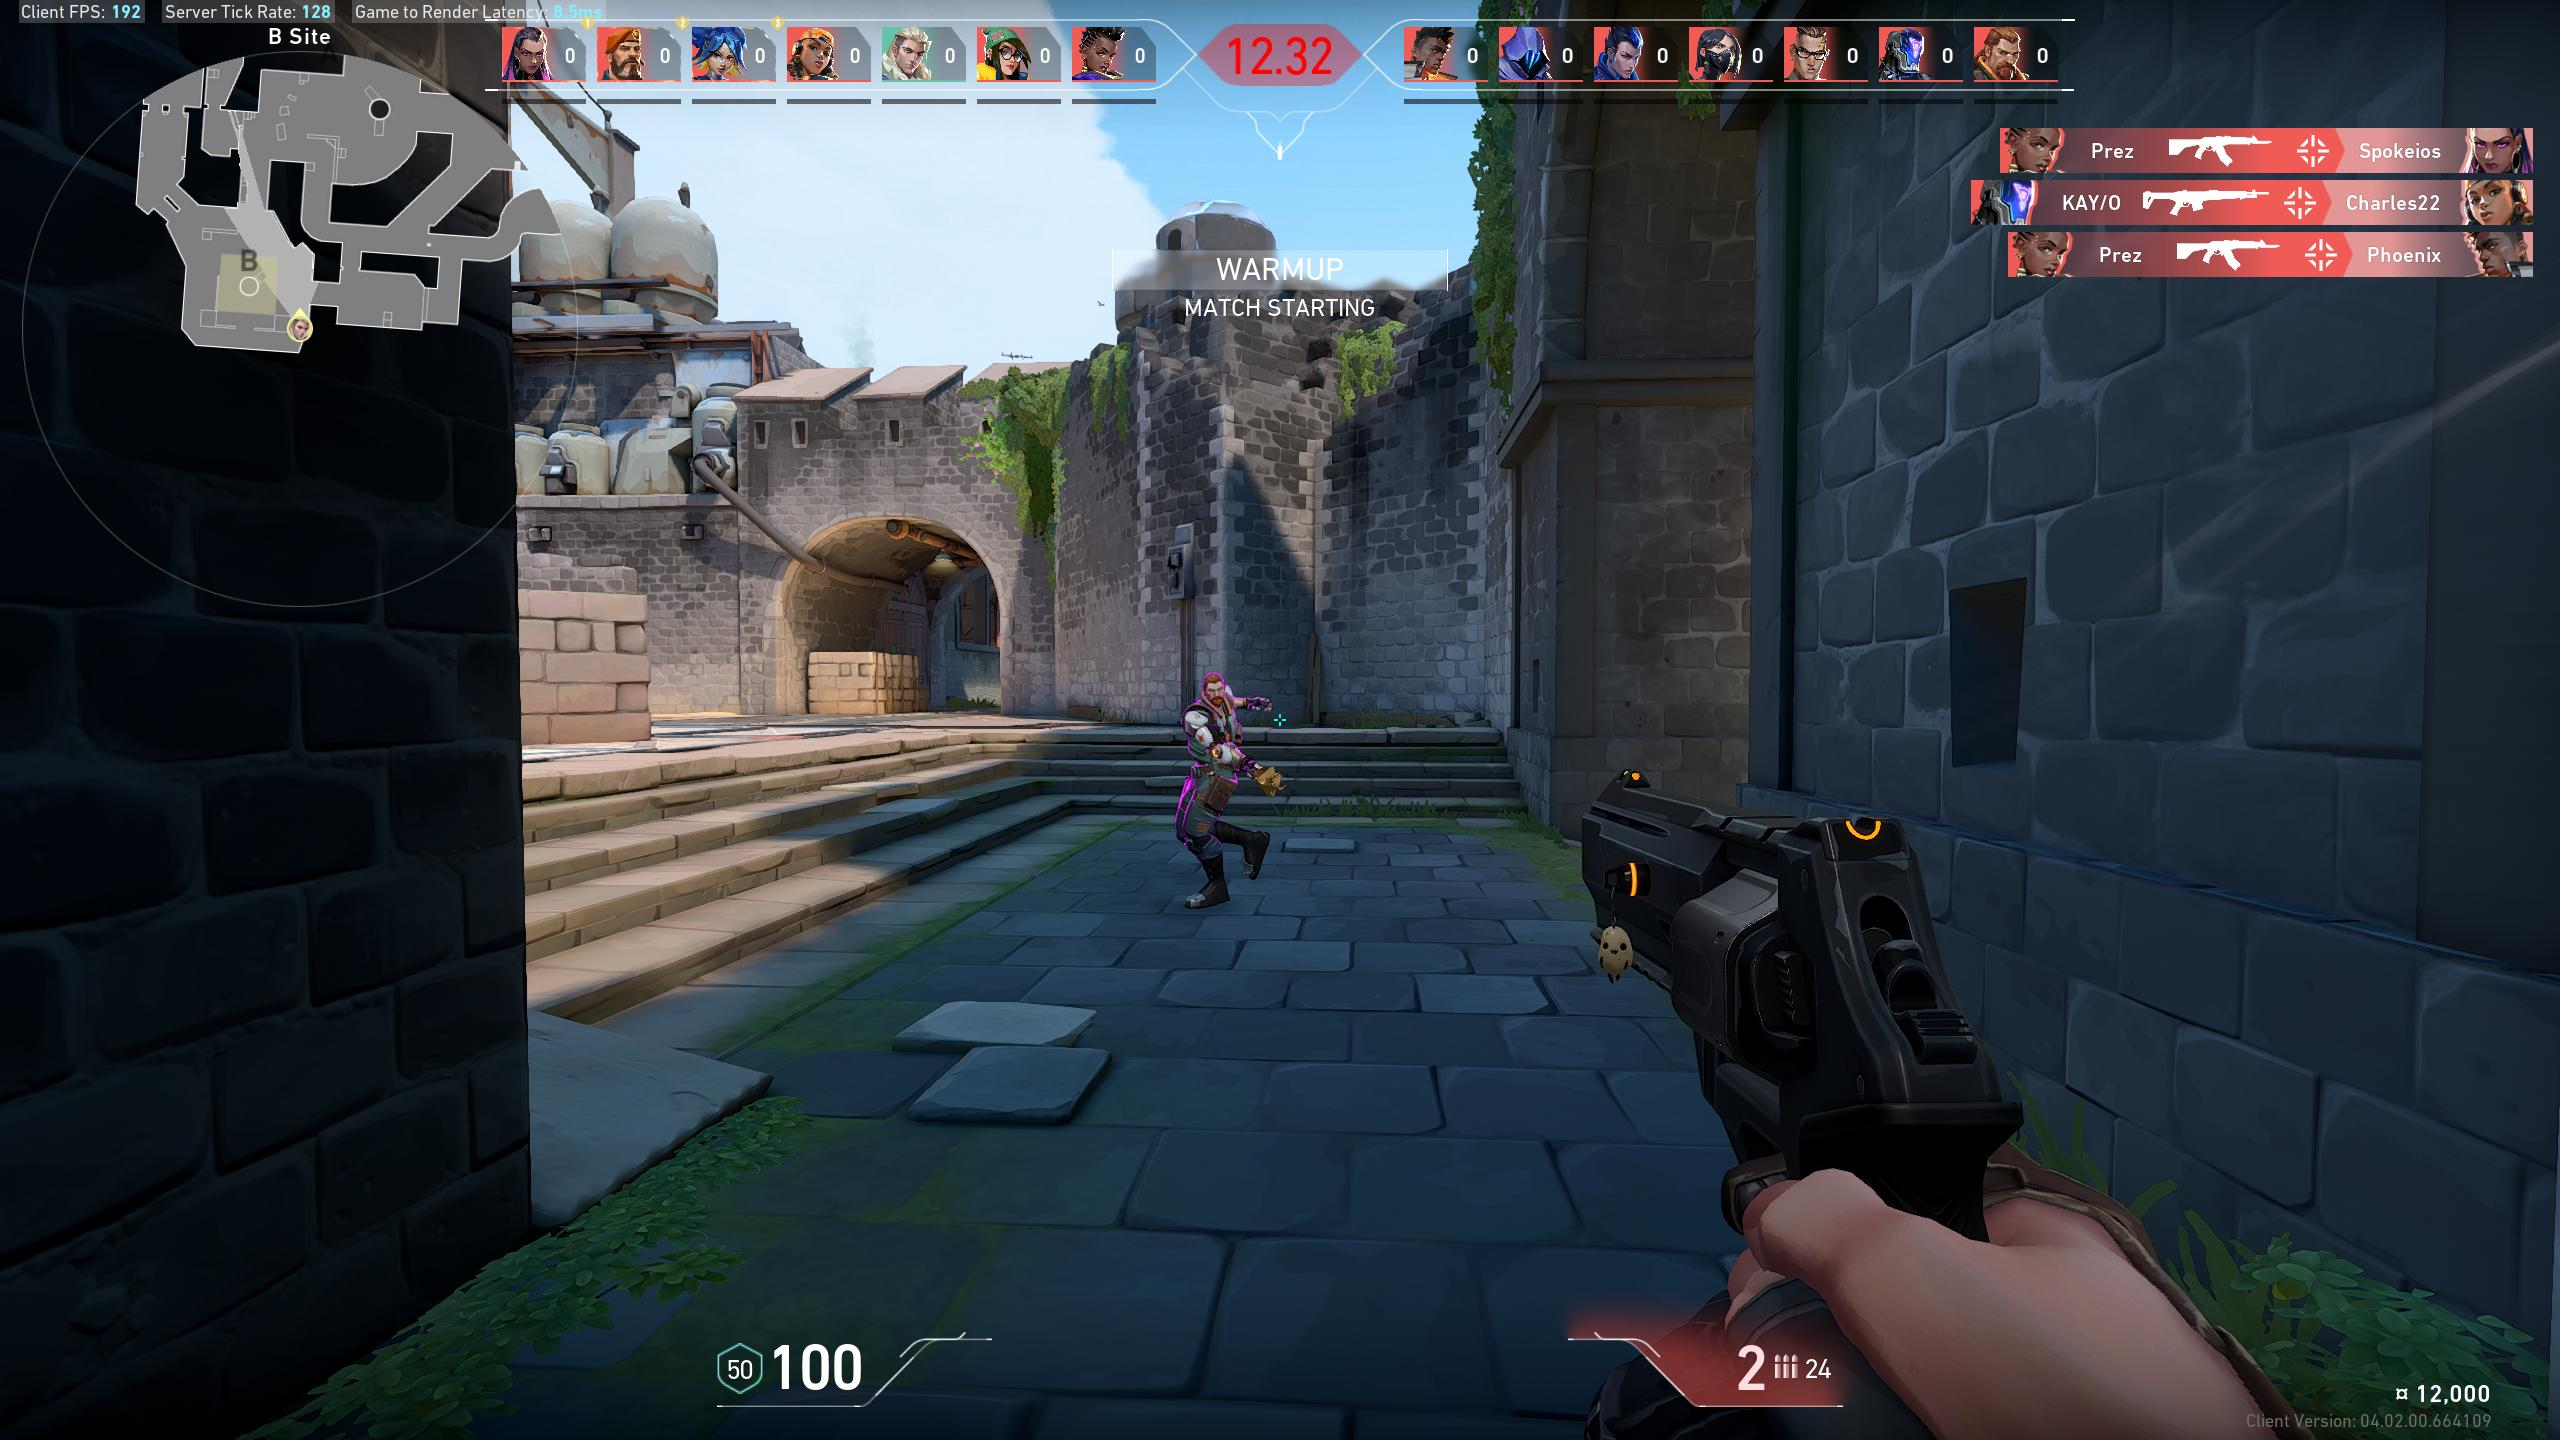enemyBody: (1192, 710, 1234, 767)
enemyHead: (1204, 680, 1224, 702)
